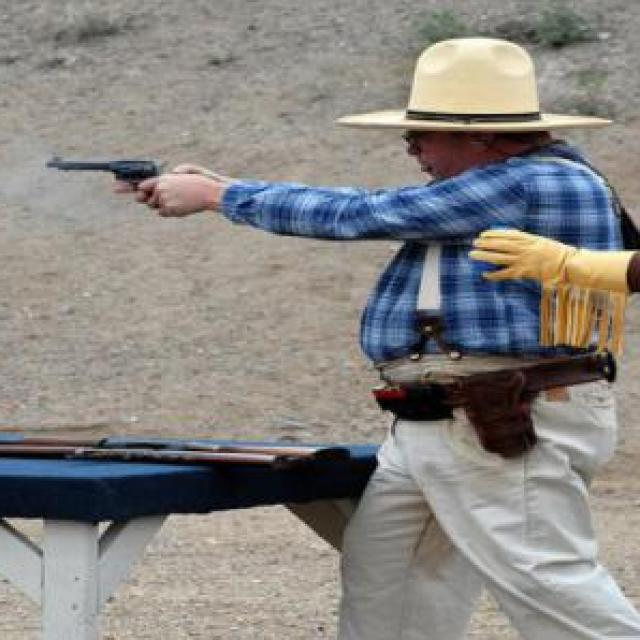pistol: (48, 155, 166, 207)
